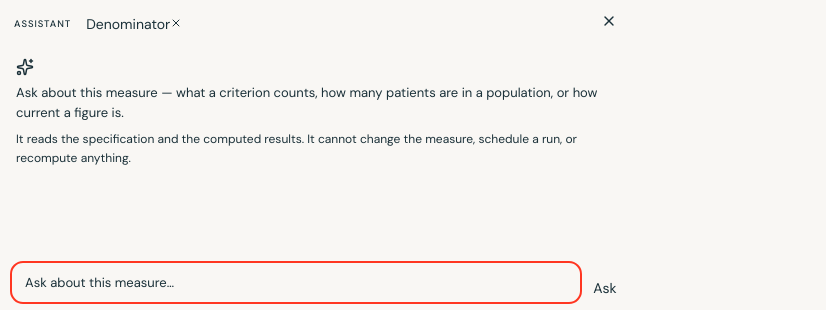
it: provenance (SVC-ANSWER-PROVENANCE) › warns when a figure is the assistant's own derivation, not the measure's
Type "How many are controlled?" into the text box named "Ask a question" at (296, 282), box top-left (14, 264), bottom-right (578, 300)
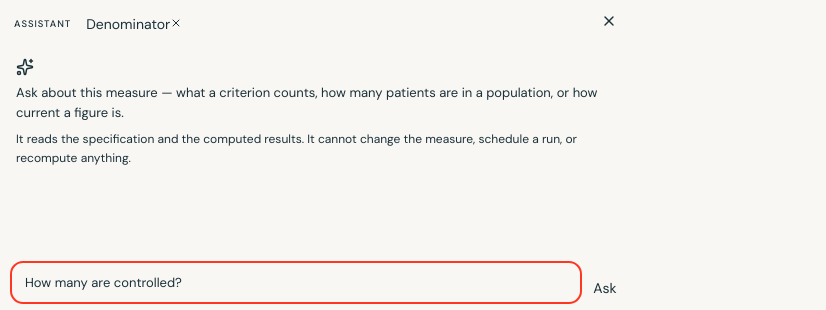
Click the button "Ask" at (605, 288), box top-left (587, 277), bottom-right (623, 300)
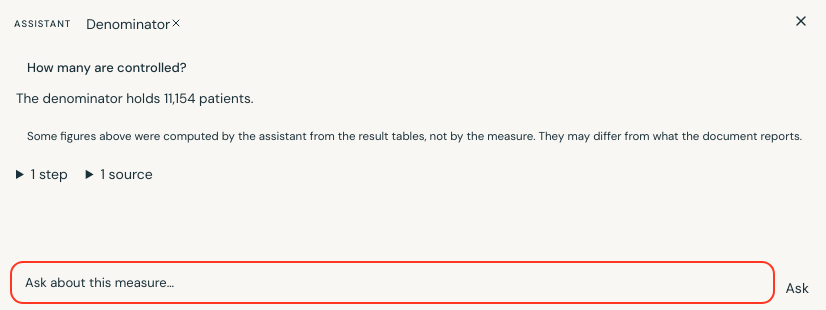
Check: the text "computed by the assistant" is shown, box top-left (27, 129), bottom-right (802, 144)
